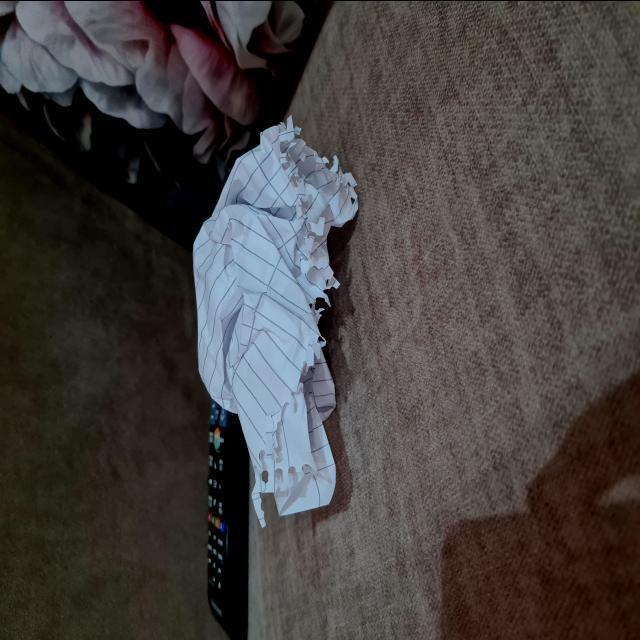Paper: (188, 114, 364, 524)
